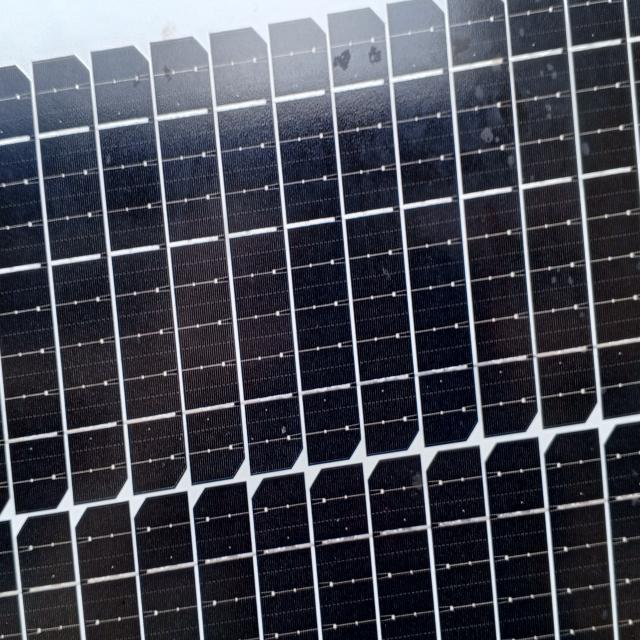Clean: (3, 15, 637, 632)
